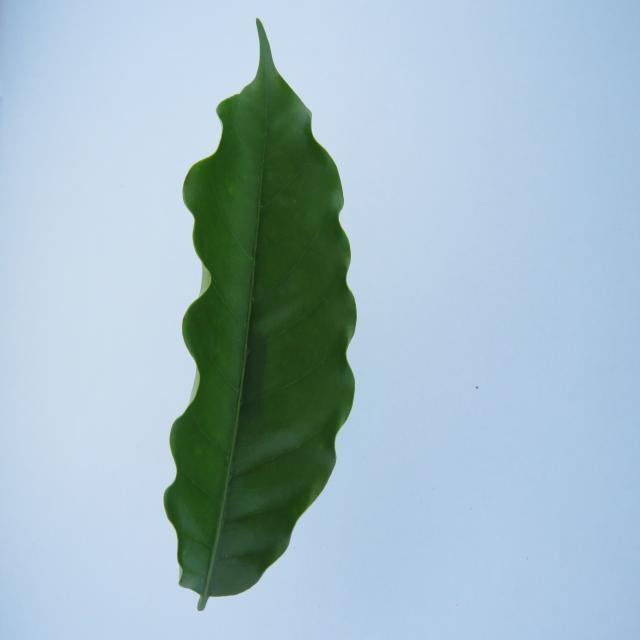DeficienciaNutricional-Calcio: (164, 20, 356, 610)
